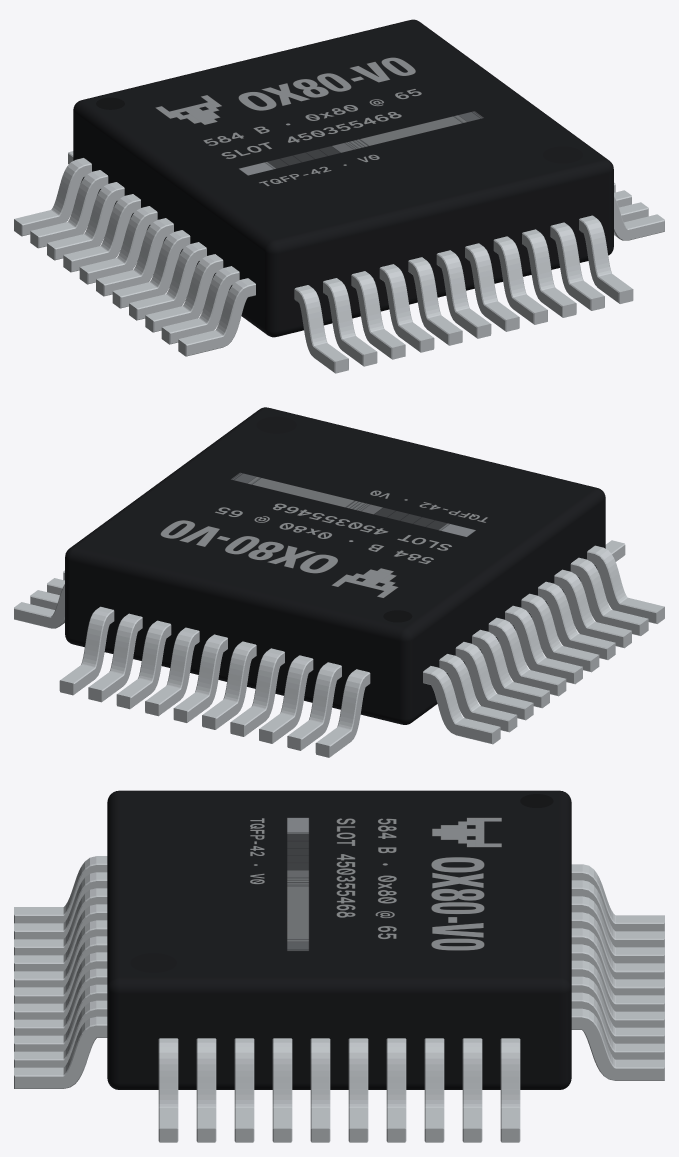
File: ox81-chip-v0-lookups.glb
3 renders of one model, top to bottom at view 1: azimuth 30°, elevation 25°; view 2: azimuth 150°, elevation 25°; view 3: azimuth 270°, elevation 25°, orthographic. The views are drawn at different scales.
Visible parts, largest first — view 1: body, leads, marking, object 4; view 2: body, leads, marking, object 4; view 3: body, leads, marking, object 4.
Boxes of the visible parts, x1,y1,x2,y2 form: body: (73, 19, 613, 337); leads: (14, 151, 664, 373); marking: (155, 57, 483, 186); object 4: (543, 146, 582, 163); body: (65, 407, 605, 724); leads: (14, 540, 664, 757); marking: (160, 473, 487, 597); object 4: (256, 416, 296, 433); body: (107, 790, 571, 1089); leads: (14, 856, 664, 1142); marking: (250, 817, 501, 950); object 4: (130, 953, 176, 972).
Bounding box in the file's own units: 7.41 × 1.51 × 7.41.
5 materials, 1 textured.
